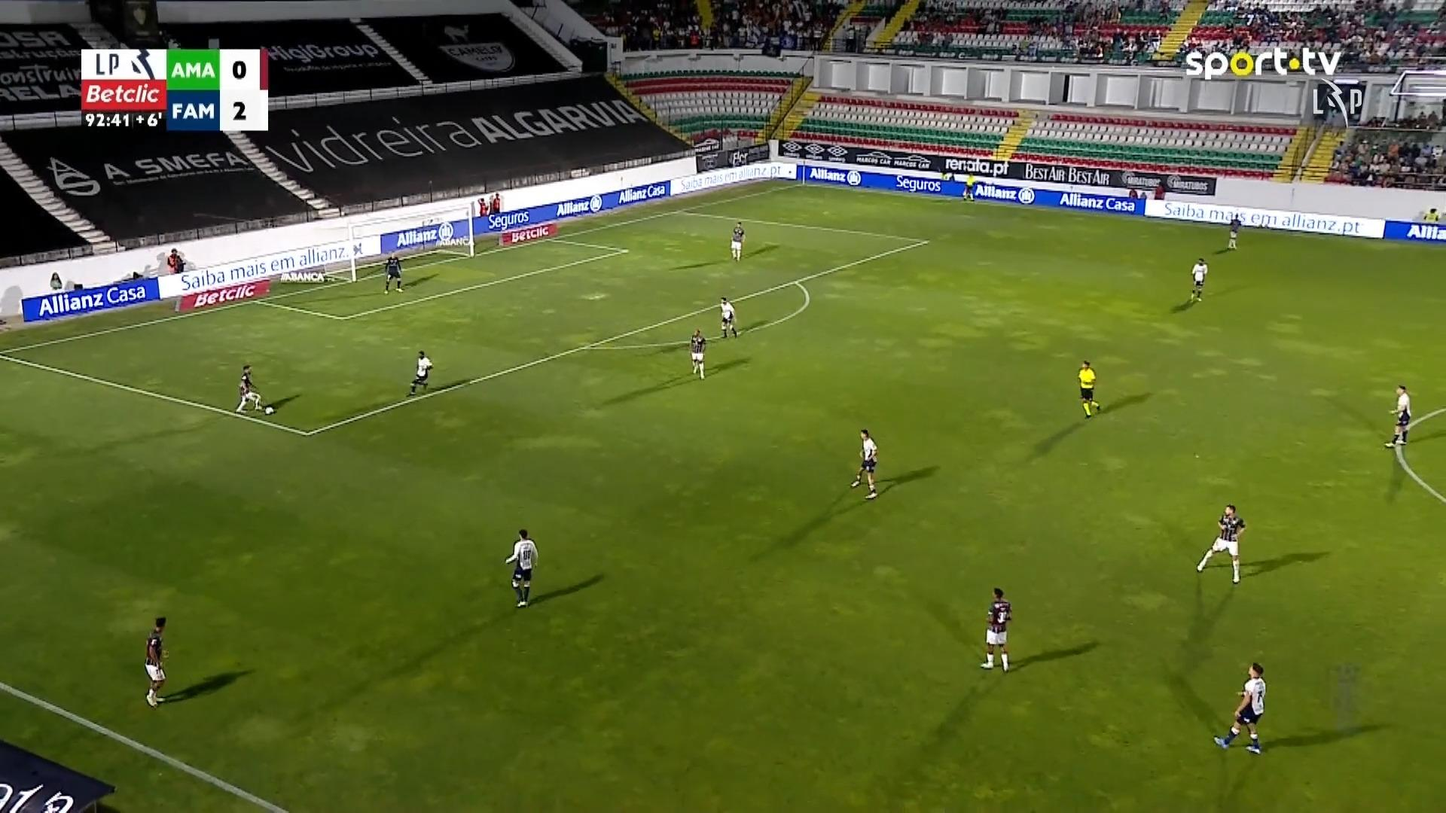ball: (264, 406, 274, 415), (511, 578, 519, 588)
goalkeeper: (383, 251, 403, 294)
player: (1213, 662, 1266, 754), (1195, 503, 1246, 583), (979, 586, 1012, 671), (503, 528, 538, 607), (143, 615, 169, 708), (850, 428, 879, 499), (233, 363, 270, 413), (1384, 383, 1411, 447), (407, 349, 432, 395), (1188, 257, 1207, 303), (689, 328, 706, 379), (718, 296, 738, 338), (729, 220, 745, 261), (1225, 212, 1241, 249)
referee: (1077, 359, 1100, 418), (962, 172, 975, 202)
